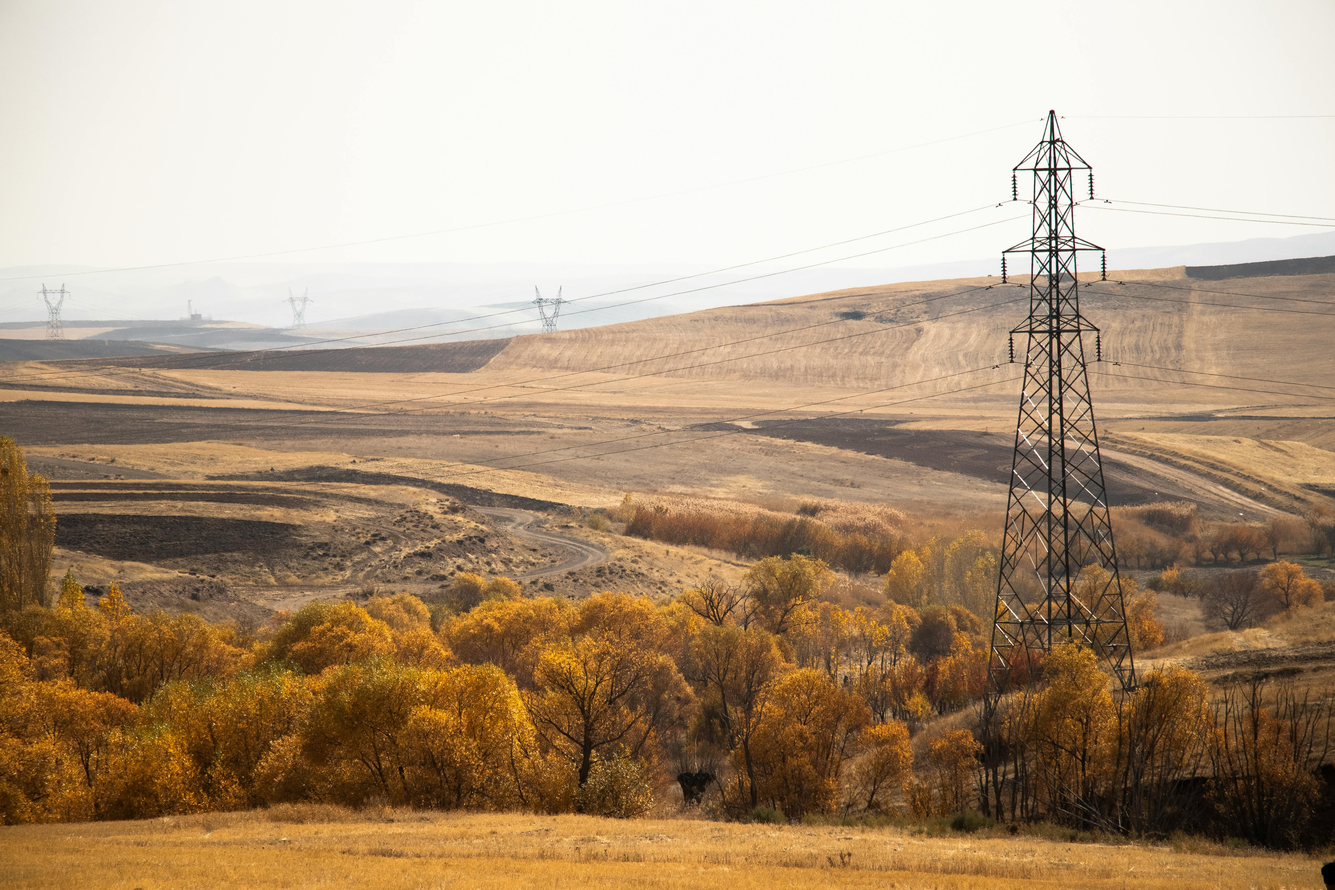insulator: (1084, 167, 1097, 204), (997, 249, 1010, 283), (1005, 330, 1017, 366), (1008, 170, 1019, 206), (1094, 330, 1103, 367), (1098, 251, 1109, 279)
